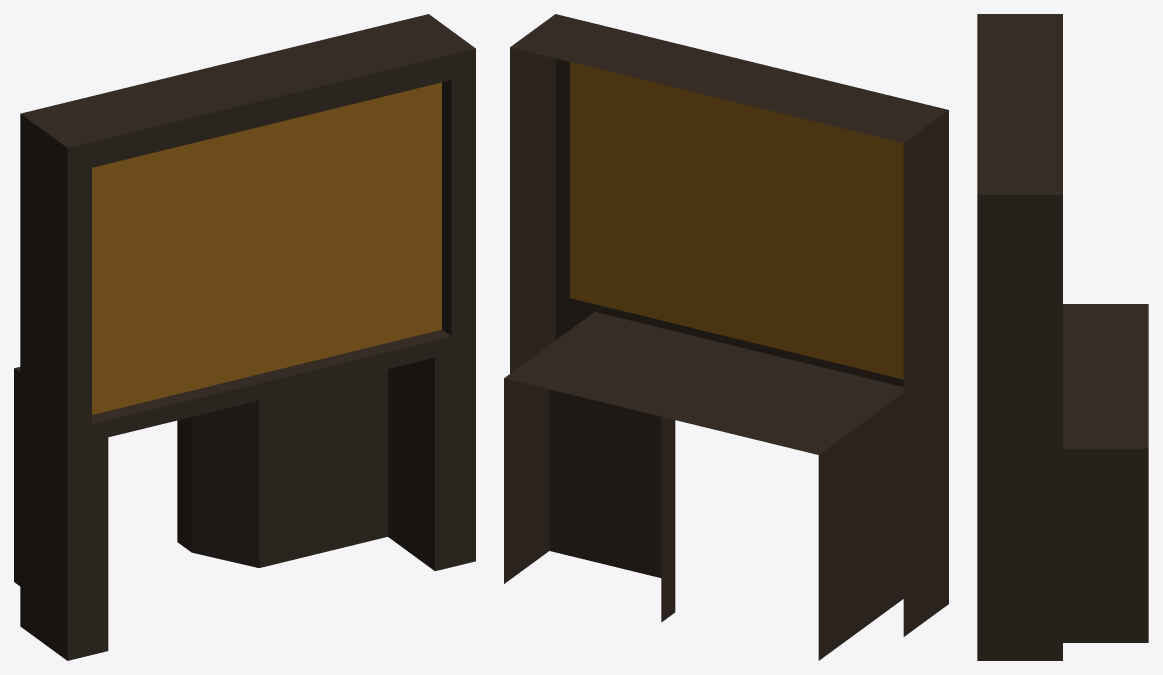
The model's file is Animate.FBX.
The picture shows the model from 3 angles, left to right: view 1: azimuth 30°, elevation 25°; view 2: azimuth 150°, elevation 25°; view 3: azimuth 270°, elevation 25°; orthographic projection. The views are drawn at different scales.
Visible parts, largest first — view 1: Animate; view 2: Animate; view 3: Animate.
Part boxes in pixels (left/top/right/bottom): Animate: left=14, top=14, right=475, bottom=660; Animate: left=504, top=14, right=948, bottom=660; Animate: left=977, top=14, right=1148, bottom=660.
Bounding box in the file's own units: 500 × 600 × 200.
